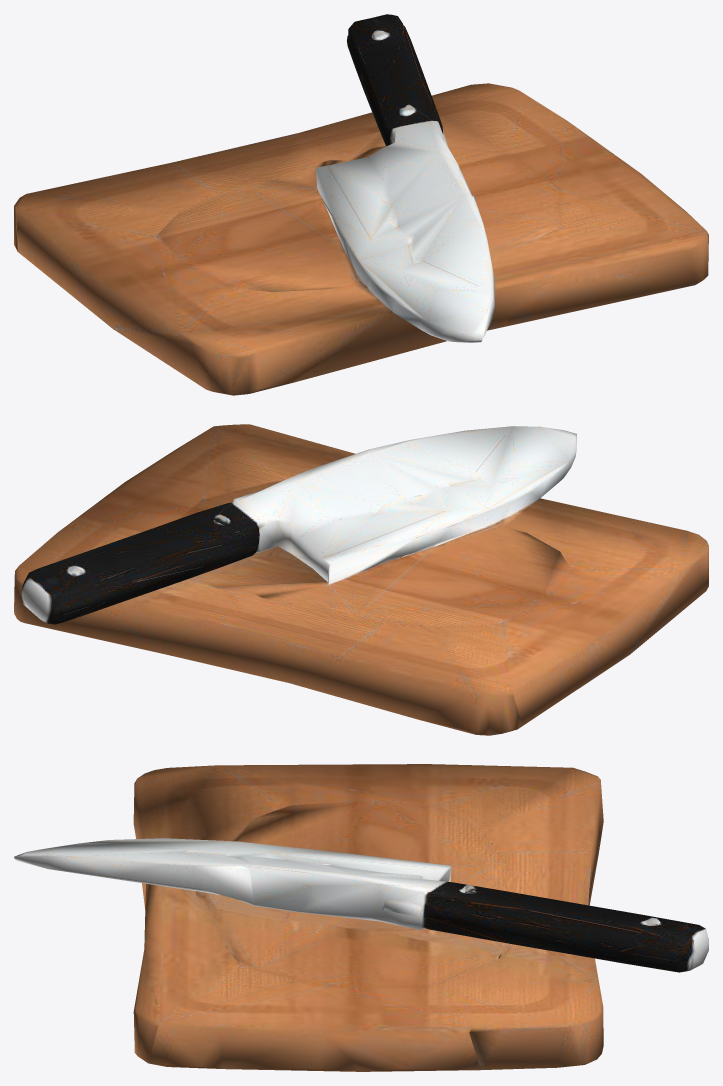
The model's file is cutting-board.glb.
3 renders of one model, top to bottom at view 1: azimuth 30°, elevation 25°; view 2: azimuth 150°, elevation 25°; view 3: azimuth 270°, elevation 25°, orthographic. The views are drawn at different scales.
Bounding box in the file's own units: 1.74 × 0.3517 × 1.91.
1 material, 1 textured.
